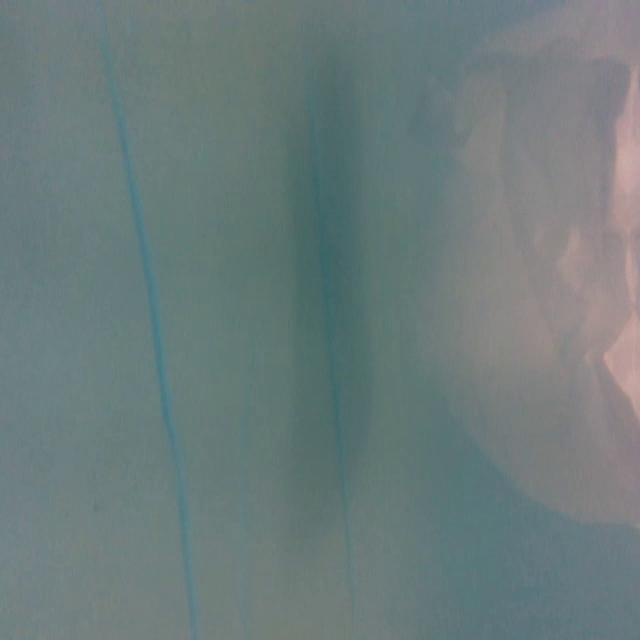plastic bags: (426, 0, 639, 534)
